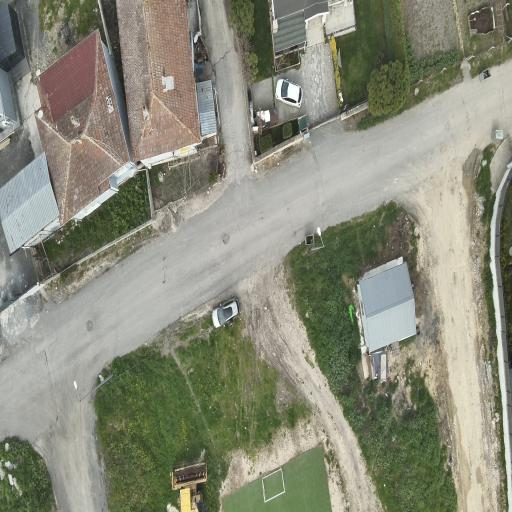car: (212, 298, 239, 327), (276, 79, 302, 107)
harvester: (172, 458, 206, 511)
